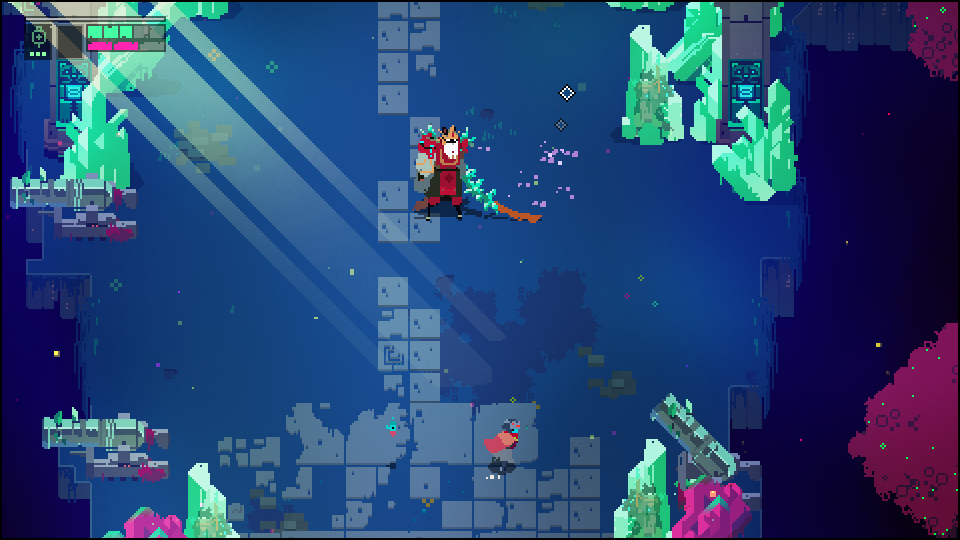hanged_man: (412, 120, 502, 223)
player: (484, 417, 518, 472)
